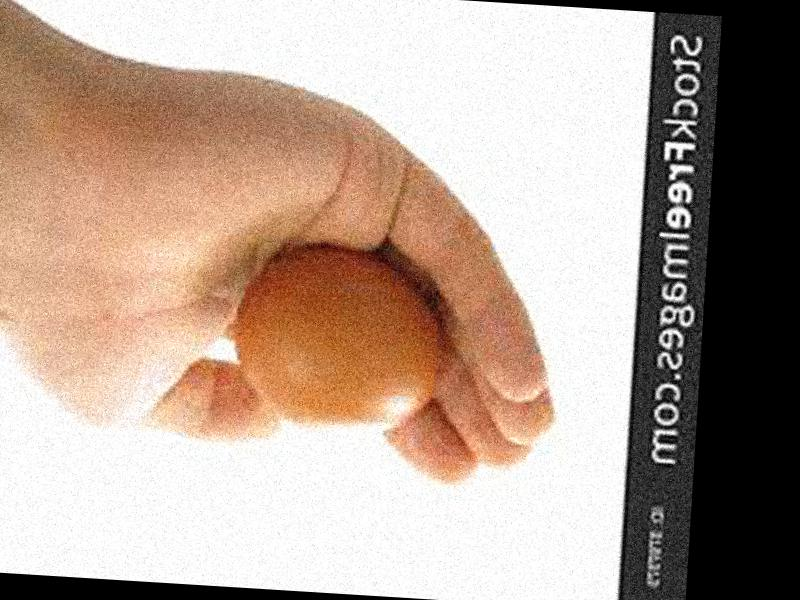Eggs: (227, 247, 463, 436)
